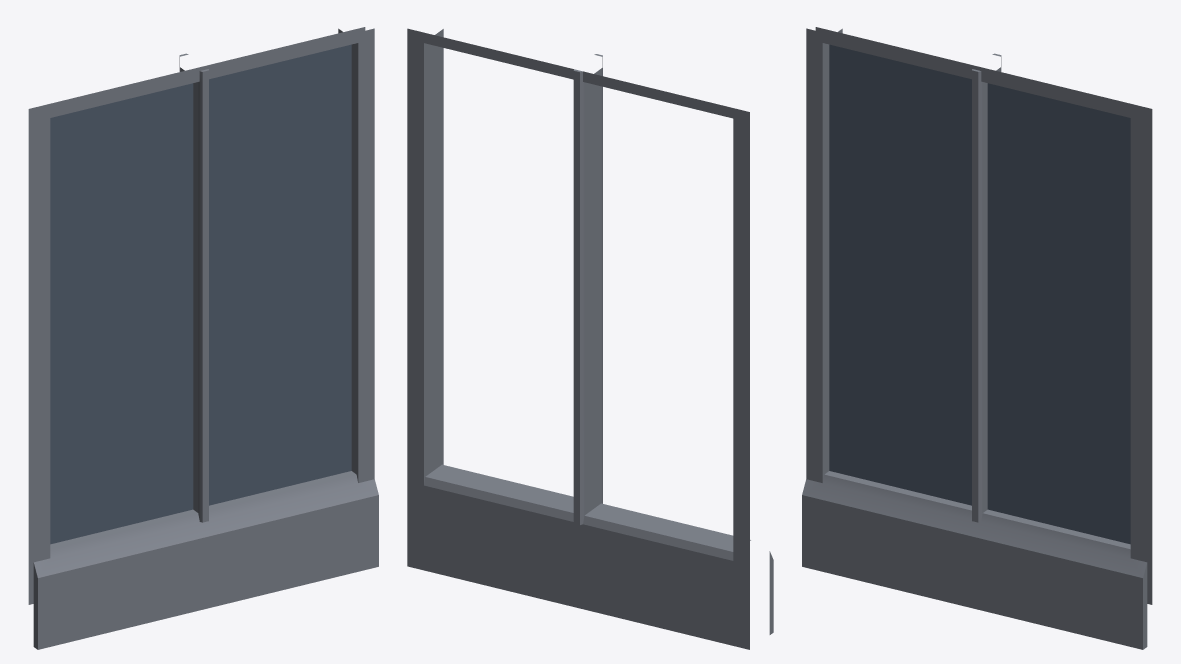
The model's file is env_block_metal_first_floor_window.glb.
3 views of the same model, side by side, from view 1: azimuth 30°, elevation 25°; view 2: azimuth 150°, elevation 25°; view 3: azimuth 330°, elevation 25° (orthographic).
Visible parts, largest first — view 1: part_1, part_0; view 2: part_0; view 3: part_1, part_0.
Boxes of the visible parts, x1,y1,x2,y2 form: part_1: [50, 44, 351, 544]; part_0: [28, 27, 378, 649]; part_0: [407, 28, 773, 649]; part_1: [829, 44, 1130, 544]; part_0: [802, 27, 1152, 649].
Bounding box in the file's own units: 2 × 3 × 0.2588.
